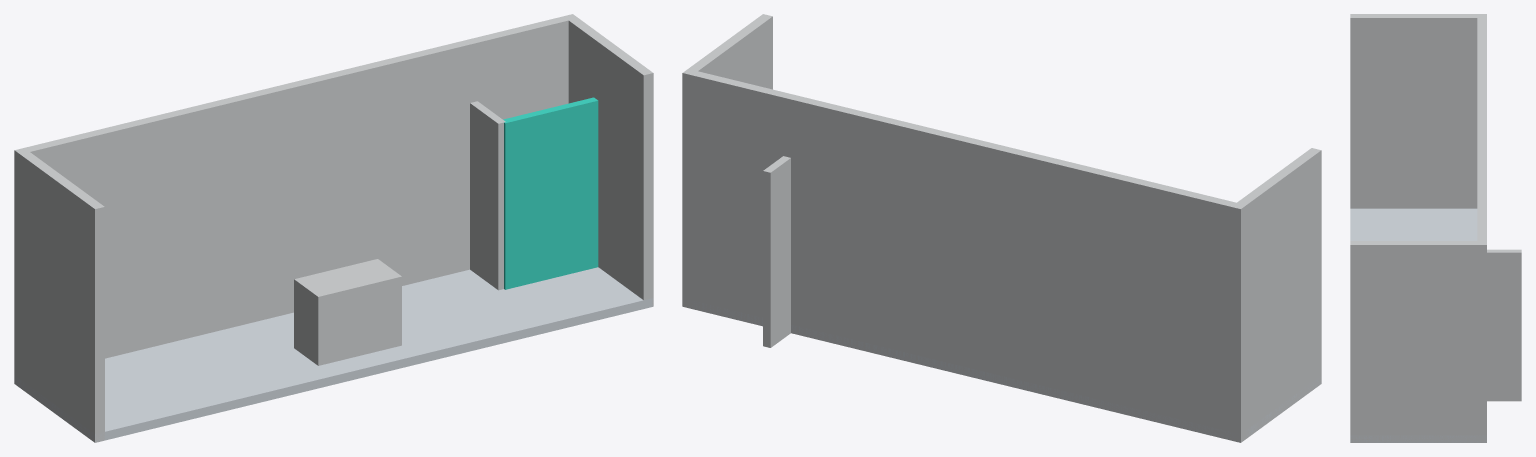
3 renders of one model, left to right at view 1: azimuth 30°, elevation 25°; view 2: azimuth 150°, elevation 25°; view 3: azimuth 270°, elevation 25°, orthographic. The views are drawn at different scales.
Parts seen in each view (by area): view 1: Exhibition Booth Concept; view 2: Exhibition Booth Concept; view 3: Exhibition Booth Concept.
Part boxes in pixels (x1,y1,x2,y2): Exhibition Booth Concept: [14, 14, 653, 442]; Exhibition Booth Concept: [682, 14, 1321, 442]; Exhibition Booth Concept: [1350, 14, 1521, 442].
Size of the model in its own units: 8 by 3.2 by 2.5.
